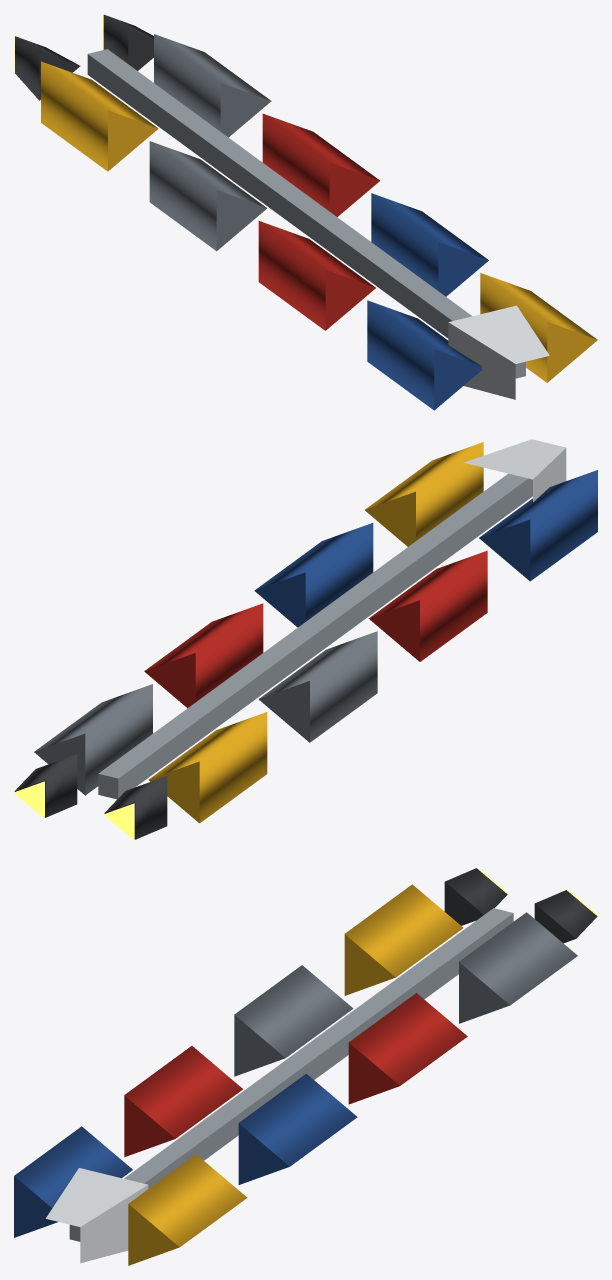
Rendered from space_ship_logistics_mk2_lod2.glb.
The picture shows the model from 3 angles, top to bottom: view 1: azimuth 30°, elevation 25°; view 2: azimuth 150°, elevation 25°; view 3: azimuth 330°, elevation 25°; orthographic projection.
Visible parts, largest first — view 1: body, pod_1_0, pod_2_0, pod_0_0, pod_3_0, pod_1_1, pod_2_1, pod_0_1, pod_3_1, engine_0, engine_1; view 2: body, pod_1_0, pod_2_0, pod_3_0, pod_0_0, pod_1_1, pod_2_1, pod_3_1, pod_0_1, engine_1, engine_0; view 3: body, pod_1_1, pod_0_0, pod_2_1, pod_1_0, pod_3_1, pod_2_0, pod_0_1, pod_3_0, engine_1, engine_0.
Part boxes in pixels (x1,y1,x2,y2): body: (87, 49, 549, 399); pod_1_0: (149, 141, 267, 251); pod_2_0: (258, 221, 375, 330); pod_0_0: (41, 61, 158, 171); pod_3_0: (367, 300, 481, 410); pod_1_1: (262, 113, 379, 216); pod_2_1: (371, 193, 488, 296); pod_0_1: (154, 34, 271, 137); pod_3_1: (480, 273, 597, 382); engine_0: (102, 14, 153, 70); engine_1: (14, 36, 80, 100); body: (98, 439, 566, 799); pod_1_0: (258, 631, 377, 742); pod_2_0: (368, 550, 487, 661); pod_3_0: (479, 470, 597, 581); pod_0_0: (148, 712, 267, 823); pod_1_1: (144, 603, 263, 708); pod_2_1: (254, 523, 373, 627); pod_3_1: (365, 442, 483, 546); pod_0_1: (34, 684, 152, 795); engine_1: (104, 776, 167, 839); engine_0: (14, 754, 77, 817); body: (46, 908, 513, 1263); pod_1_1: (348, 993, 467, 1104); pod_0_0: (344, 884, 463, 995); pod_2_1: (238, 1073, 357, 1184); pod_1_0: (234, 965, 353, 1076); pod_3_1: (128, 1154, 247, 1265); pod_2_0: (124, 1046, 242, 1157); pod_0_1: (459, 912, 577, 1023); pod_3_0: (14, 1126, 132, 1237); engine_1: (444, 868, 507, 925); engine_0: (534, 890, 597, 943).
Bounding box in the file's own units: 6.58 × 2.36 × 32.35.
